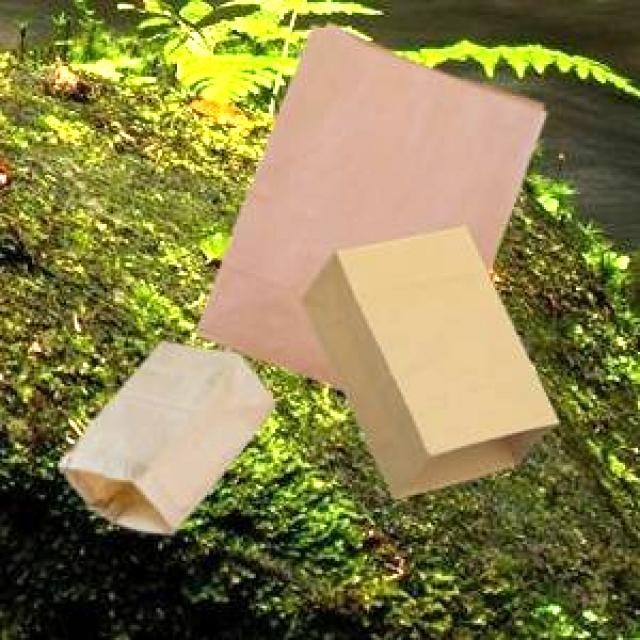Paper_Bag: (193, 20, 543, 385), (300, 223, 556, 496), (56, 338, 272, 530)
